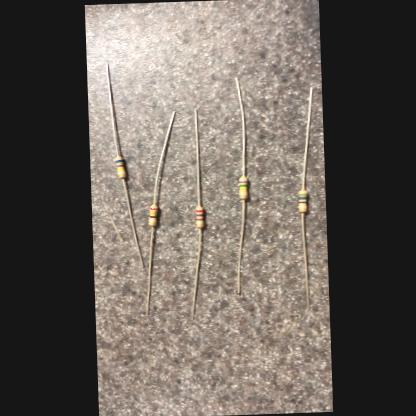resistor: (114, 155, 127, 179), (297, 188, 309, 211), (147, 204, 159, 226), (194, 206, 205, 229), (237, 176, 248, 198)
wire: (149, 110, 177, 203), (120, 178, 142, 268), (298, 87, 316, 188), (187, 228, 204, 319), (233, 200, 248, 292), (104, 62, 118, 155), (141, 226, 155, 316), (234, 76, 245, 176), (300, 211, 310, 308), (192, 108, 200, 205)
